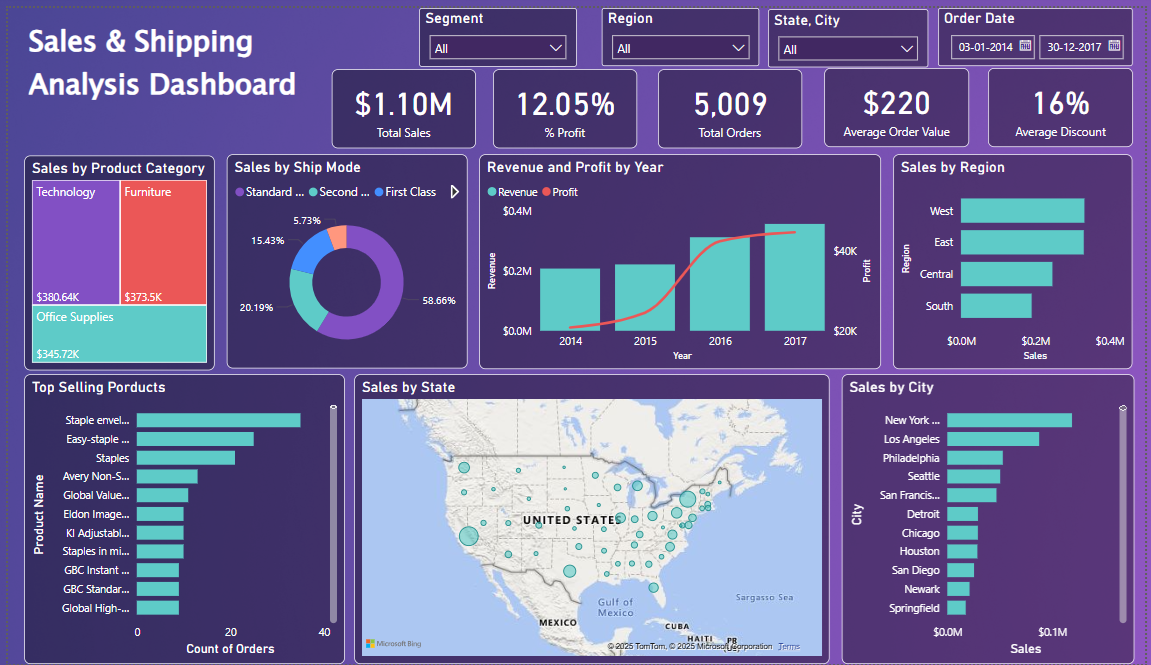

This screenshot's page, from the dashboard's own definition file:
{"tool":"powerbi","page":{"name":"Sales Overview","canvas":[1300,750],"ordinal":0},"visuals":[{"type":"card","fields":{"Values":["Sum(Sales Table.Sales)"]},"box":[370,70,164.6,90.8],"z":0},{"type":"card","fields":{"Values":["Sales Table.% Profit"]},"box":[554.5,70.2,164.6,90.8],"z":1000},{"type":"card","fields":{"Values":["Count(Sales Table.Order ID)"]},"box":[743.3,70.2,164.6,90.8],"z":2000},{"type":"card","fields":{"Values":["Sales Table.AOV"]},"box":[933.4,69,165.9,90.8],"z":3000},{"type":"card","fields":{"Values":["Avg(Sales Table.Discount)"]},"box":[1119.9,69,165.9,90.8],"z":4000},{"type":"lineStackedColumnComboChart","fields":{"Category":["Sales Table.Order Date.Variation.Date Hierarchy.Year","Sales Table.Order Date.Variation.Date Hierarchy.Quarter","Sales Table.Order Date.Variation.Date Hierarchy.Month","Sales Table.Order Date.Variation.Date Hierarchy.Day"],"Y":["Sum(Sales Table.Sales)"],"Y2":["Sum(Sales Table.Profit)"]},"box":[539.1,167.1,458.8,245.8],"z":5000},{"type":"barChart","fields":{"Category":["Sales Table.Region"],"Y":["Sum(Sales Table.Sales)"]},"box":[1012.1,167.1,273.6,245.8],"z":6000},{"type":"barChart","title":"Top Selling Porducts","fields":{"Category":["Product Table.Product Name"],"Y":["Count(Sales Table.Order ID)"]},"box":[18.1,418.8,366.6,331.4],"z":7000},{"type":"map","fields":{"Category":["Sales Table.State"],"Size":["Sum(Sales Table.Sales)"]},"box":[395.4,418.8,543.5,331.4],"z":8000},{"type":"barChart","fields":{"Category":["Sales Table.City"],"Y":["Sum(Sales Table.Sales)"]},"box":[952.8,418.8,334.6,331.4],"z":9000},{"type":"treemap","fields":{"Group":["Product Table.Category","Product Table.Sub-Category"],"Values":["Sum(Sales Table.Sales)"]},"box":[18.2,168.3,217.9,245.8],"z":10000},{"type":"textbox","box":[18.1,8.5,328.3,149.2],"z":11000},{"type":"slicer","title":"State, City","fields":{"Values":["Sales Table.State","Sales Table.City"]},"box":[869.2,1.2,182.8,66.6],"z":12000},{"type":"slicer","title":"Region","fields":{"Values":["Sales Table.Region"]},"box":[678,0,180.4,66.6],"z":13000},{"type":"slicer","title":"Order Date","fields":{"Values":["Sales Table.Order Date"]},"box":[1063,0,222.8,66.6],"z":14000},{"type":"donutChart","fields":{"Y":["Sum(Sales Table.Sales)"],"Category":["Sales Table.Ship Mode"]},"box":[250.2,167.1,274.8,244.6],"z":15000},{"type":"slicer","title":"Segment","fields":{"Values":["Sales Table.Segment"]},"box":[470,0,180.1,67.1],"z":16000}]}

Visuals, with their boxes in screenshot pixels (x1, y1, x2, y2), scaled from the page's 1300x750 canvas onto the 1151x665 screenshot:
card - Sum(Sales Table.Sales): (328,62,473,143)
card - Sales Table.% Profit: (491,62,637,143)
card - Count(Sales Table.Order ID): (658,62,804,143)
card - Sales Table.AOV: (826,61,973,142)
card - Avg(Sales Table.Discount): (992,61,1138,142)
lineStackedColumnComboChart - Sales Table.Order Date.Variation.Date Hierarchy.Year x Sales Table.Order Date.Variation.Date Hierarchy.Quarter: (477,148,884,366)
barChart - Sales Table.Region x Sum(Sales Table.Sales): (896,148,1138,366)
"Top Selling Porducts" barChart: (16,371,341,664)
map - Sales Table.State x Sum(Sales Table.Sales): (350,371,831,664)
barChart - Sales Table.City x Sum(Sales Table.Sales): (844,371,1140,664)
treemap - Product Table.Category x Product Table.Sub-Category: (16,149,209,367)
textbox: (16,8,307,140)
"State, City" slicer: (770,1,931,60)
"Region" slicer: (600,0,760,59)
"Order Date" slicer: (941,0,1138,59)
donutChart - Sum(Sales Table.Sales) x Sales Table.Ship Mode: (222,148,465,365)
"Segment" slicer: (416,0,576,59)
